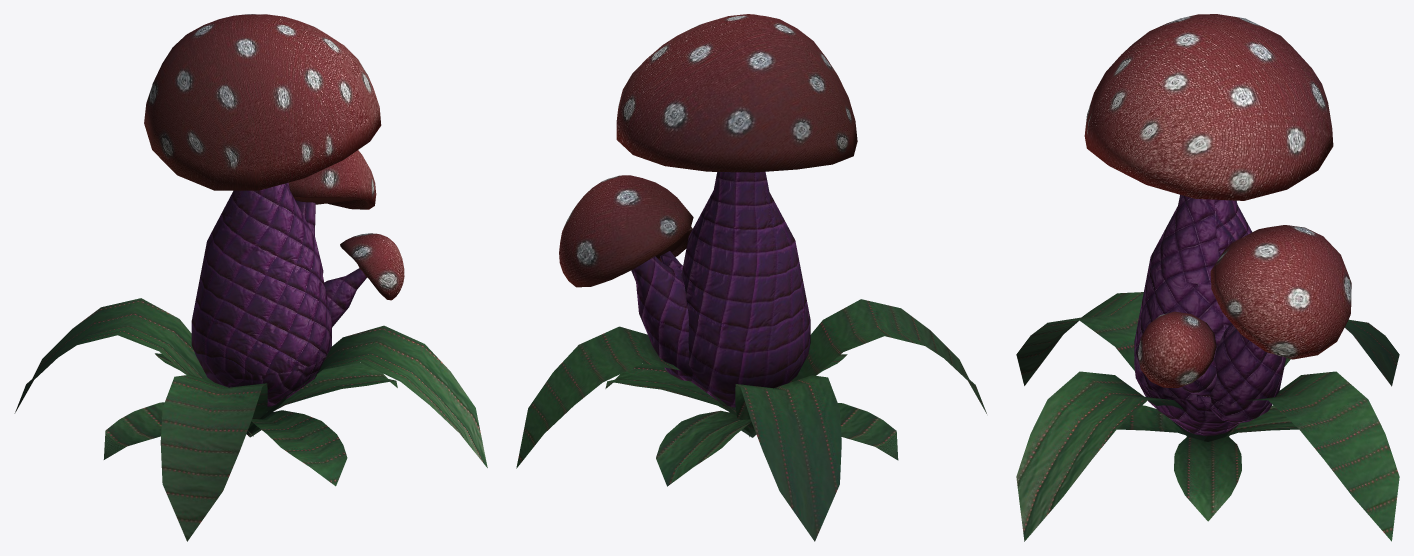
The model's file is track4Building1.glb.
The picture shows the model from 3 angles, left to right: view 1: azimuth 30°, elevation 25°; view 2: azimuth 150°, elevation 25°; view 3: azimuth 270°, elevation 25°; orthographic projection. The views are drawn at different scales.
Visible parts, largest first — view 1: track4Building1; view 2: track4Building1; view 3: track4Building1.
Part boxes in pixels (left/top/right/bottom): track4Building1: left=14, top=14, right=487, bottom=541; track4Building1: left=516, top=14, right=986, bottom=541; track4Building1: left=1016, top=14, right=1399, bottom=541.
Bounding box in the file's own units: 11.17 × 14.22 × 11.17.
Materials: 2 (1 with a texture image).
